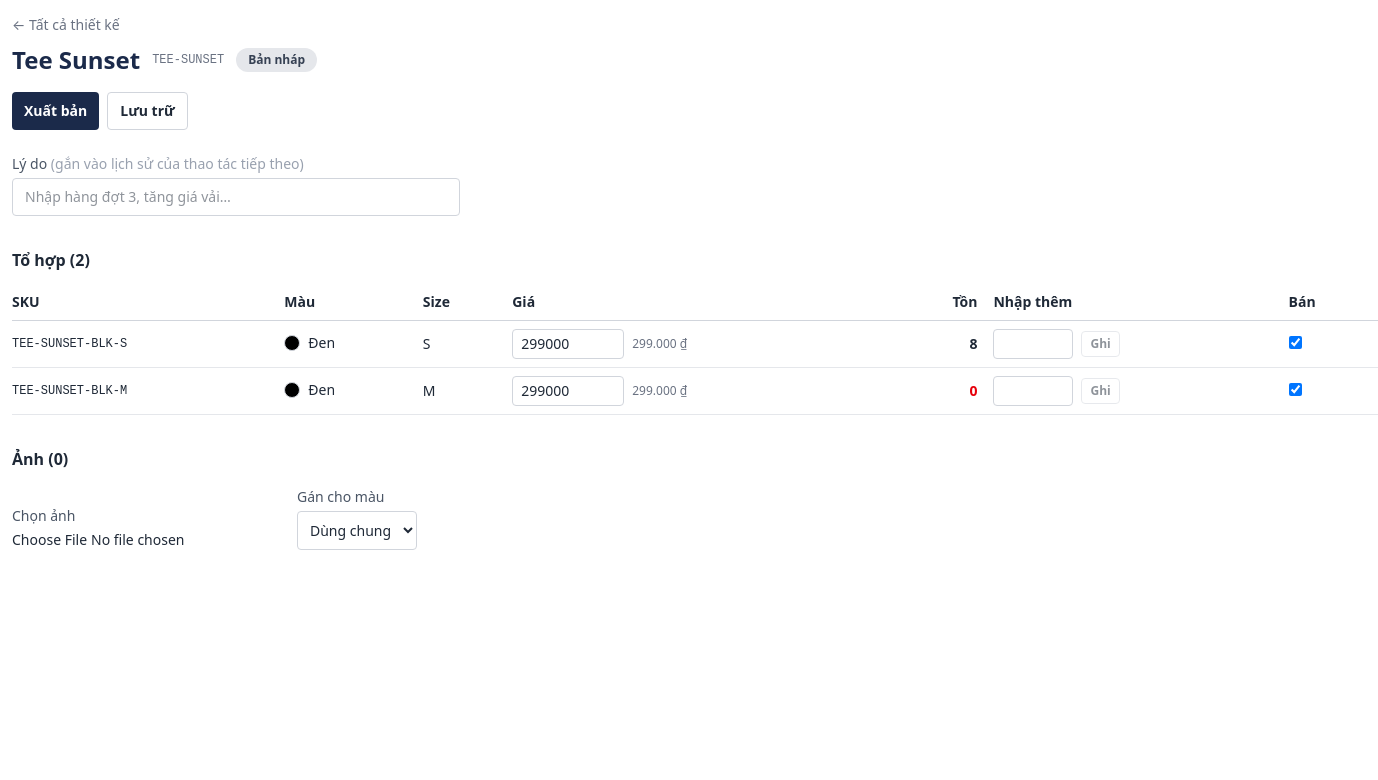
Test: AdminProductDetailPage › hiện tồn trước và tồn sau ngay khi gõ lượng nhập
In the number field named "Lượng nhập thêm cho TEE-SUNSET-BLK-S": (1034, 344) [994,329,1074,359], type "10"
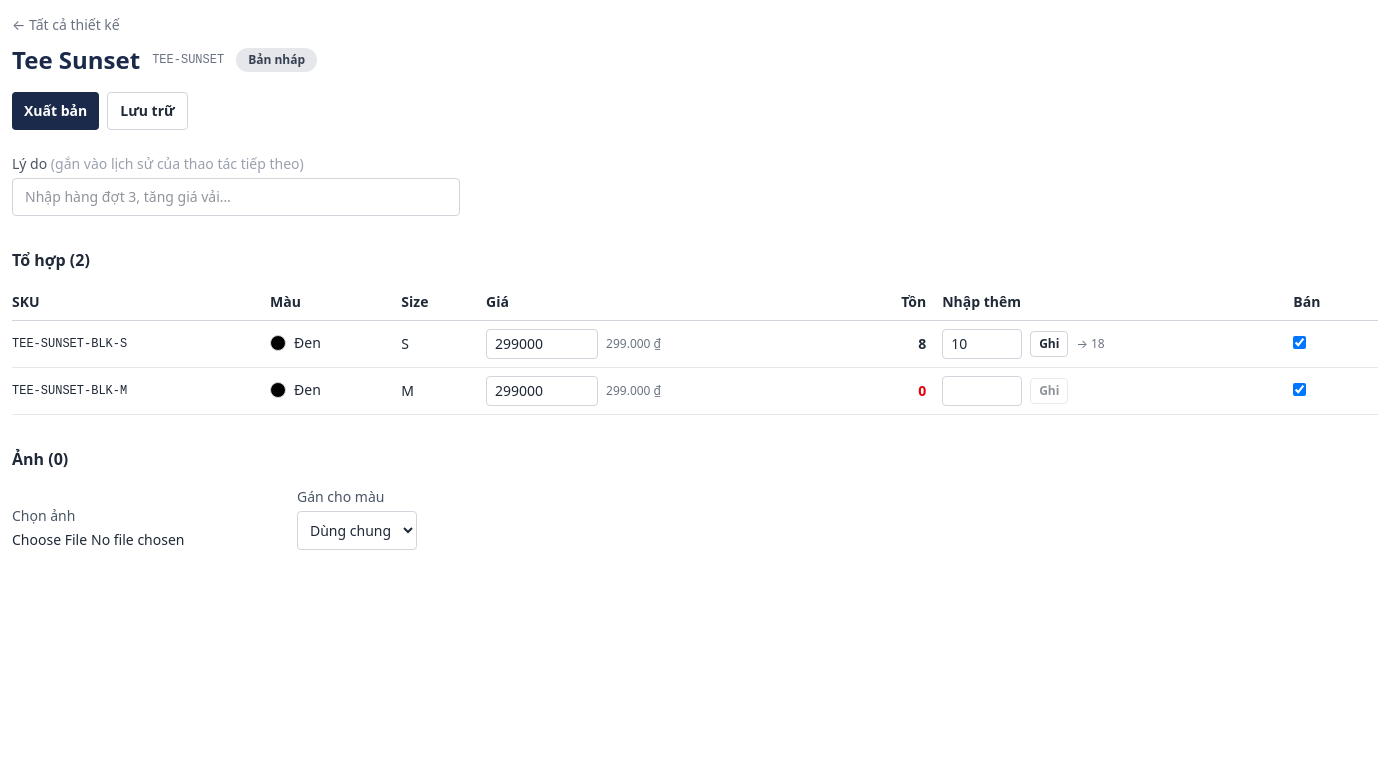
Expected: the text "→ 18" is shown, [1076,336,1105,352]
